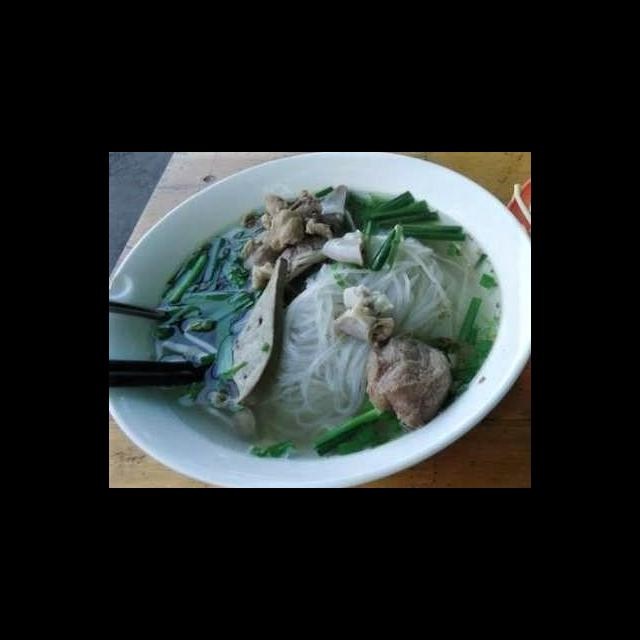banh hu tieu: (168, 263, 430, 445)
gan: (184, 236, 410, 300)
